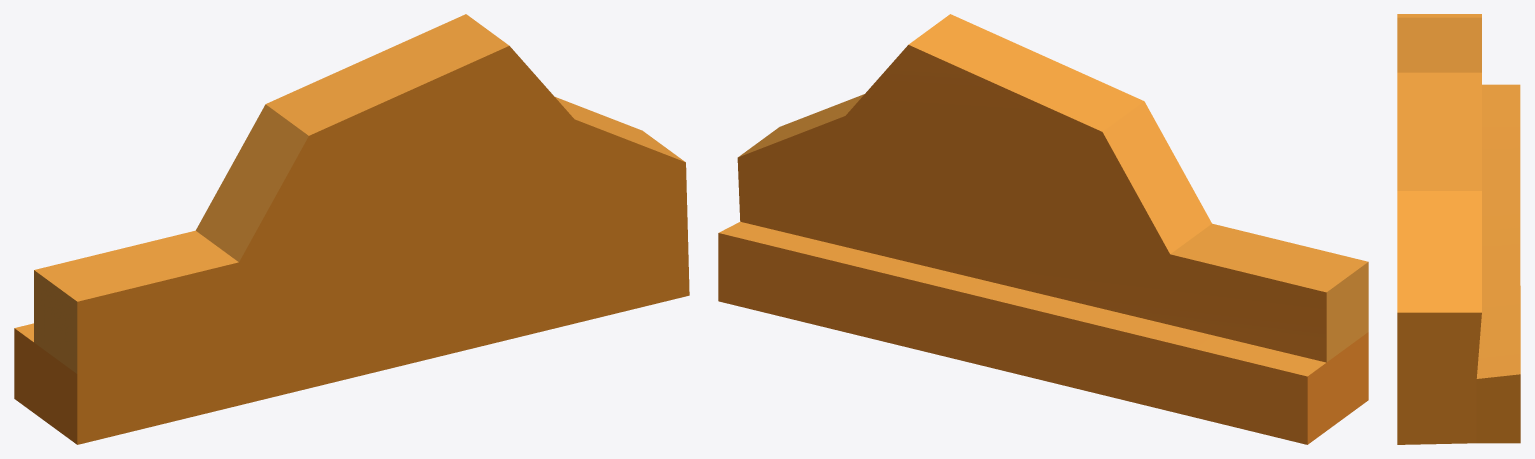
File: wall_damaged_06.fbx
3 views of the same model, side by side, from view 1: azimuth 30°, elevation 25°; view 2: azimuth 150°, elevation 25°; view 3: azimuth 270°, elevation 25° (orthographic). The views are drawn at different scales.
Parts seen in each view (by area): view 1: wall_damaged_06; view 2: wall_damaged_06; view 3: wall_damaged_06.
Part boxes in pixels (x1=…): wall_damaged_06: x1=14, y1=14, x2=689, y2=444; wall_damaged_06: x1=718, y1=14, x2=1368, y2=444; wall_damaged_06: x1=1397, y1=14, x2=1520, y2=444.
Size of the model in its own units: 134 by 61.42 by 23.92.
